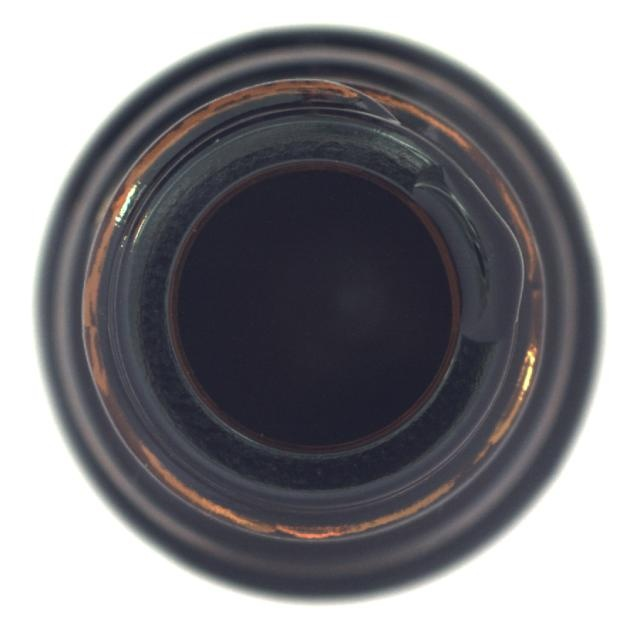bad-contamination: (32, 24, 605, 607)
